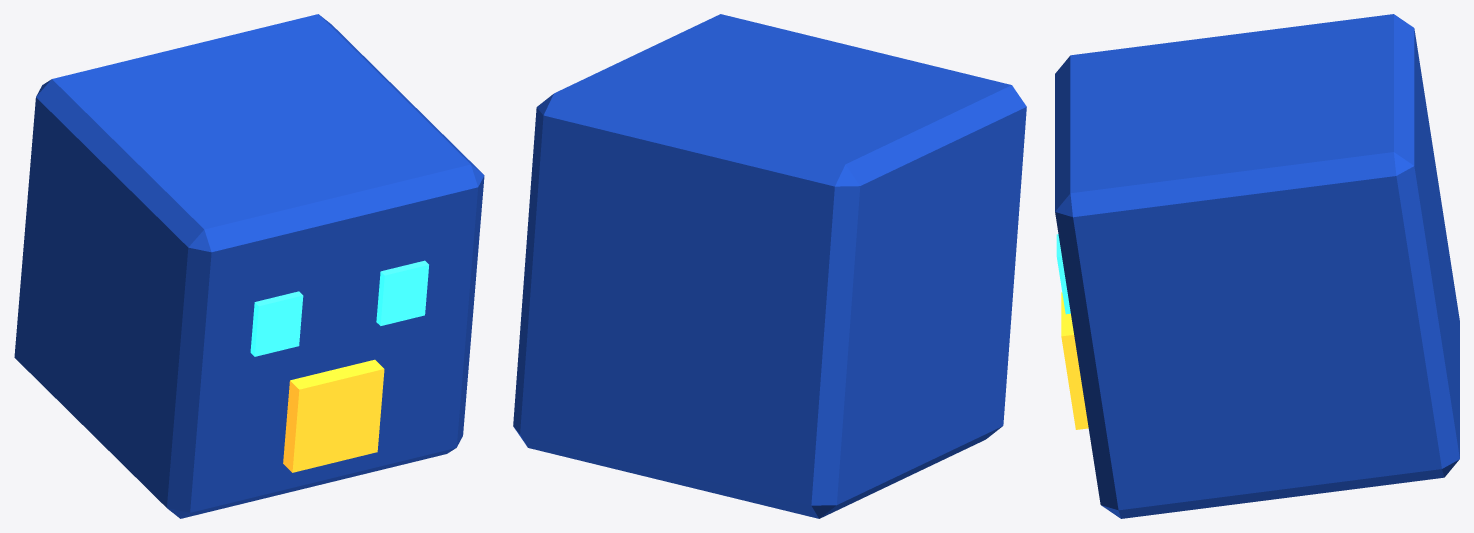
The model's file is cubit_stage0_idle_walk.glb.
3 renders of one model, left to right at view 1: azimuth 30°, elevation 25°; view 2: azimuth 150°, elevation 25°; view 3: azimuth 270°, elevation 25°, orthographic. The views are drawn at different scales.
Parts seen in each view (by area): view 1: CUBIT_Body, CUBIT_Core, CUBIT_Eyes; view 2: CUBIT_Body; view 3: CUBIT_Body, CUBIT_Core.
Boxes of the visible parts, bbox=[...] form: CUBIT_Body: bbox=[14, 14, 484, 518]; CUBIT_Core: bbox=[283, 359, 384, 472]; CUBIT_Eyes: bbox=[250, 260, 428, 356]; CUBIT_Body: bbox=[513, 14, 1026, 518]; CUBIT_Body: bbox=[1055, 14, 1459, 518]; CUBIT_Core: bbox=[1061, 292, 1088, 429].
Size of the model in its own units: 0.8 by 0.8926 by 0.8926.
